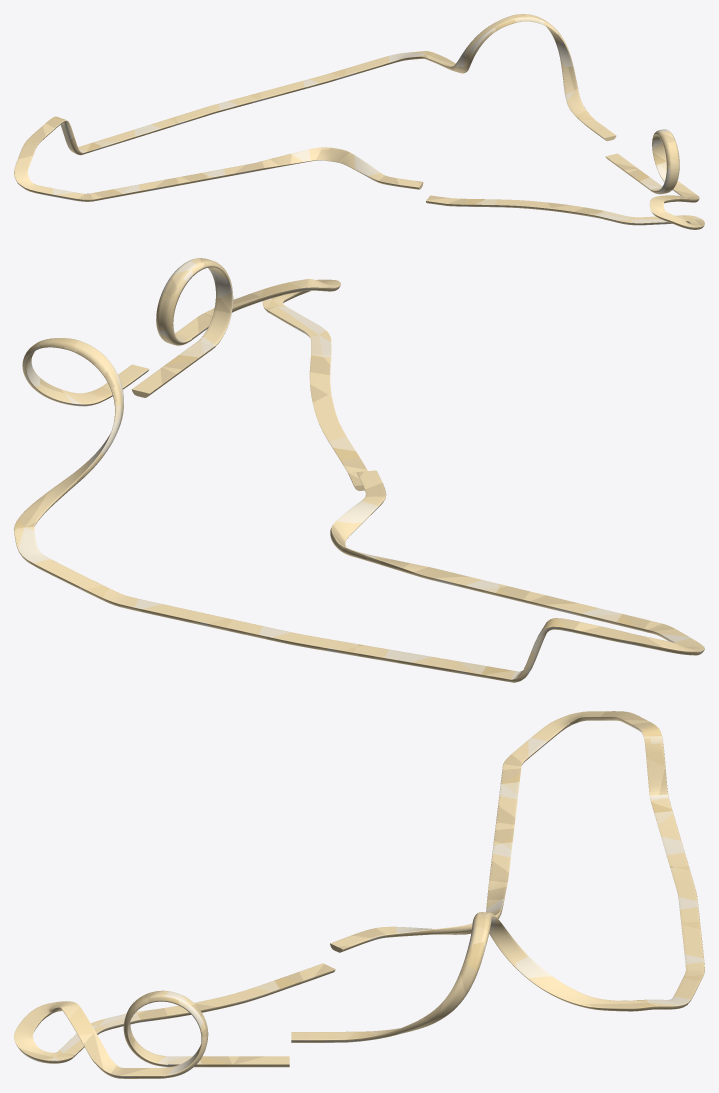
Rendered from track.fbx.
The picture shows the model from 3 angles, top to bottom: view 1: azimuth 30°, elevation 25°; view 2: azimuth 150°, elevation 25°; view 3: azimuth 270°, elevation 25°; orthographic projection. The views are drawn at different scales.
Visible parts, largest first — view 1: pathOBJ:Loft005; view 2: pathOBJ:Loft005; view 3: pathOBJ:Loft005.
Part boxes in pixels (left/top/right/bottom): pathOBJ:Loft005: left=14, top=14, right=704, bottom=229; pathOBJ:Loft005: left=14, top=258, right=704, bottom=682; pathOBJ:Loft005: left=14, top=711, right=704, bottom=1078.
Size of the model in its own units: 120 by 24.26 by 103.
1 material, 1 textured.
